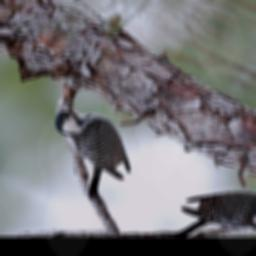Woodpecker: (15, 94, 157, 206)
